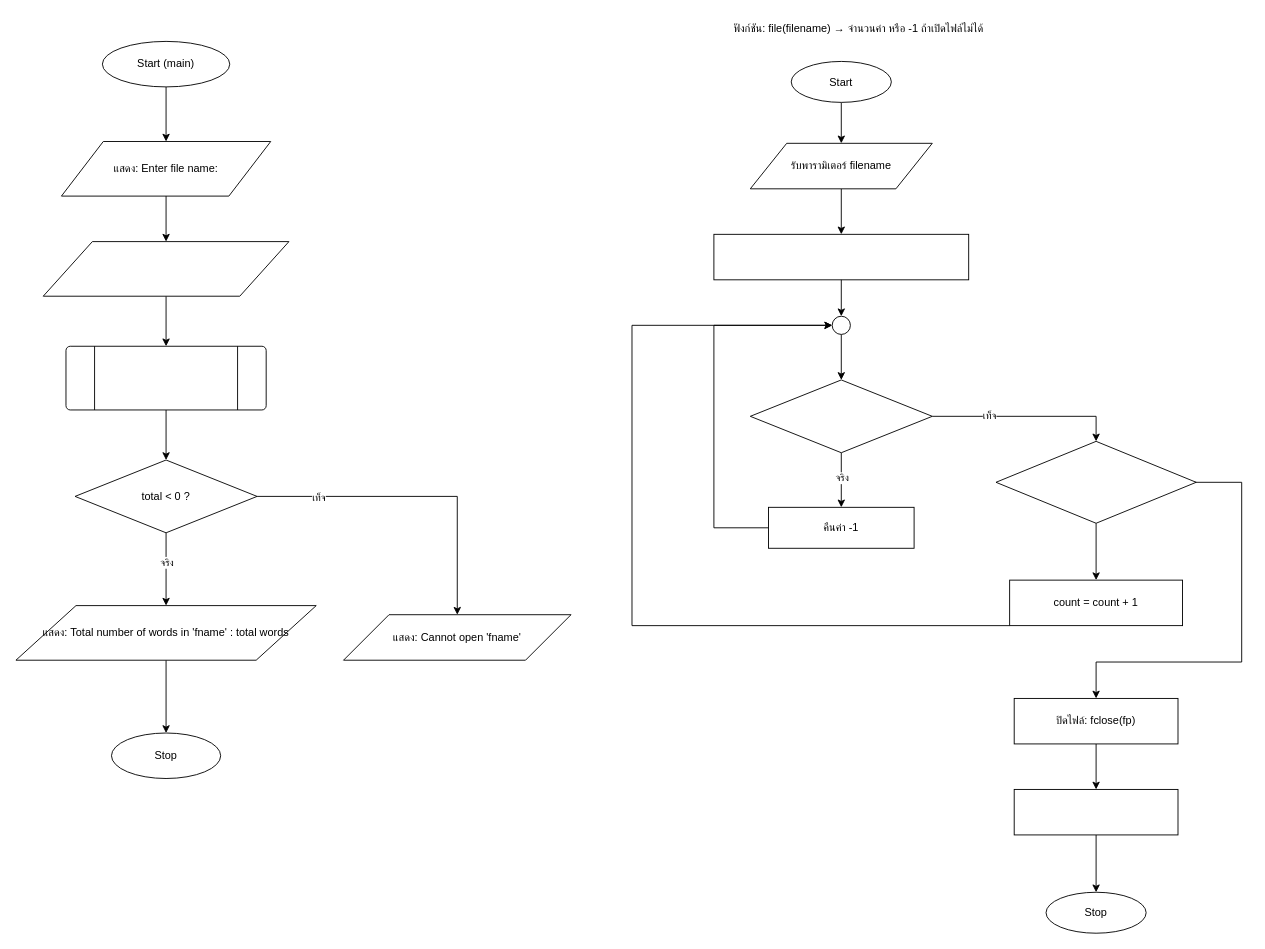
Some shapes in this 1265 by 949 pixel diagram are drawn without their labels. Here are the shapes that lost their labels. From the top down, the centre of each, then its label:
the point at 165,268: รับ fname (สตริงไม่เกิน 255 ตัวอักษร)
the point at 841,256: พยายามเปิดไฟล์: fp = fopen(filename, "r")
the point at 165,377: เรียกฟังก์ชัน file(fname) → total
the point at 840,416: fp เป็นค่าว่าง ?
the point at 1095,481: อ่านคำสำเร็จ? fscanf(fp, "%255s", token) == 1
the point at 1095,812: คืนค่า count
